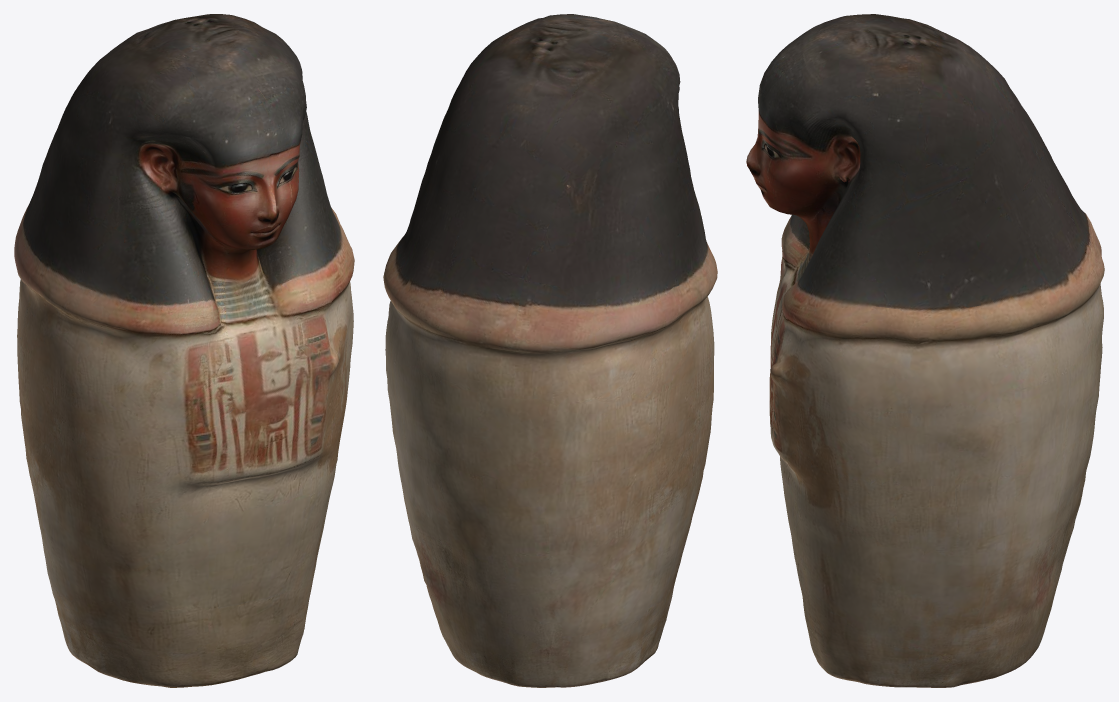
The model's file is Meshy_AI_Egyptian_Canopic_Jar_0310041000_texture.glb.
The picture shows the model from 3 angles, left to right: view 1: azimuth 30°, elevation 25°; view 2: azimuth 150°, elevation 25°; view 3: azimuth 270°, elevation 25°; orthographic projection. The views are drawn at different scales.
Bounding box in the file's own units: 0.9871 × 2 × 1.06.
Materials: 1 (1 with a texture image).
